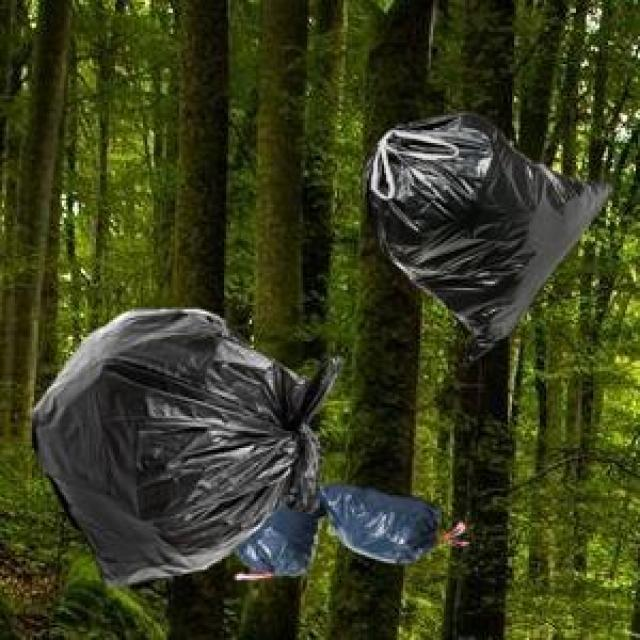Vinyl: (32, 310, 439, 584), (368, 114, 610, 359)
